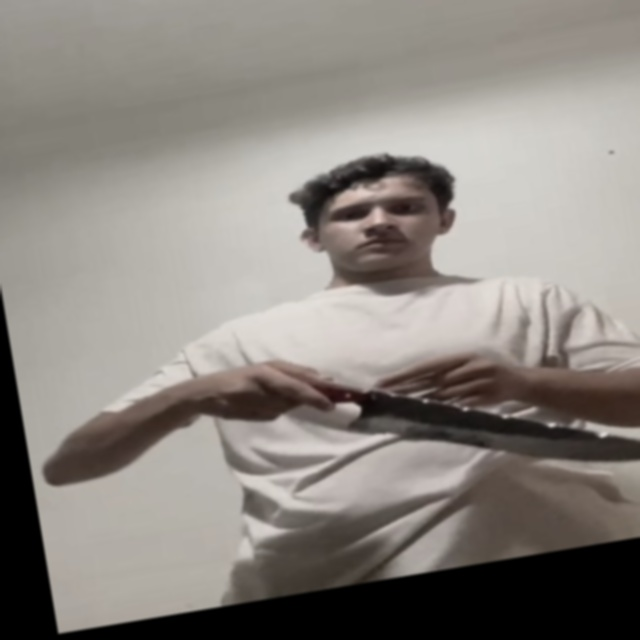Sharp-Object: (346, 344, 640, 508)
